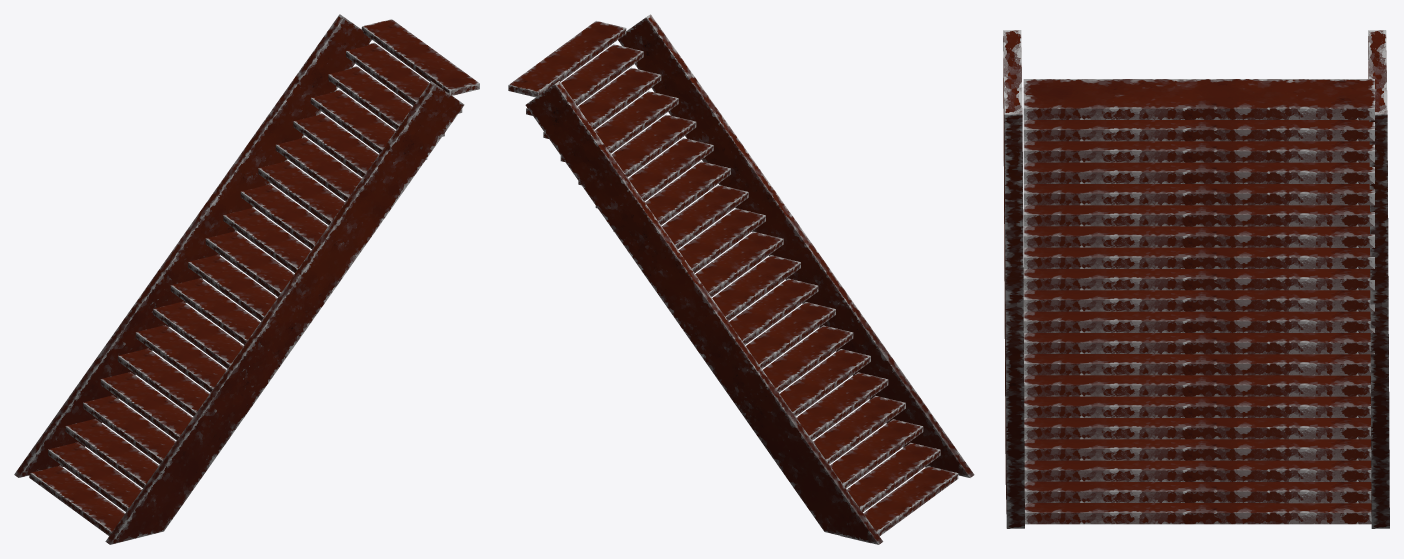
The model's file is Ladder.fbx.
3 views of the same model, side by side, from view 1: azimuth 30°, elevation 25°; view 2: azimuth 150°, elevation 25°; view 3: azimuth 270°, elevation 25° (orthographic). The views are drawn at different scales.
Visible parts, largest first — view 1: Vert.067; view 2: Vert.067; view 3: Vert.067.
Boxes of the visible parts, <box> form: Vert.067: <box>14,14,479,544</box>; Vert.067: <box>508,14,974,544</box>; Vert.067: <box>1003,30,1389,528</box>.
Bounding box in the file's own units: 2058 × 2026 × 922.
Materials: 2 (2 with a texture image).
